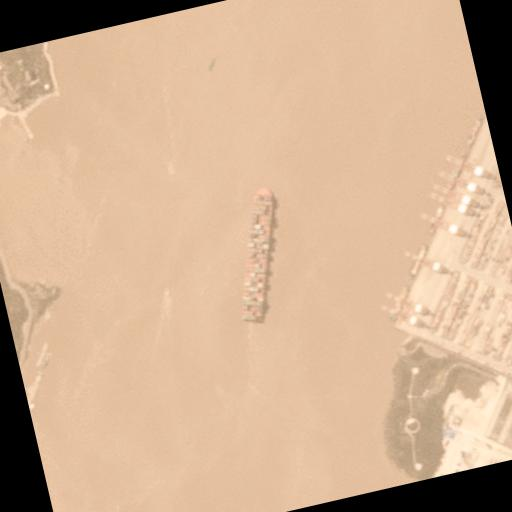ship: (212, 186, 300, 326), (204, 57, 219, 73)
